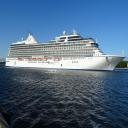cruises: (5, 29, 127, 74)
